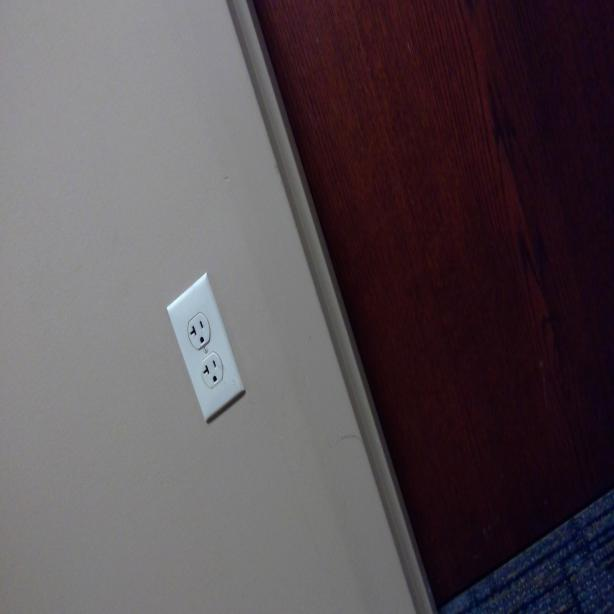typeb: (201, 356, 223, 383), (188, 316, 208, 345)
